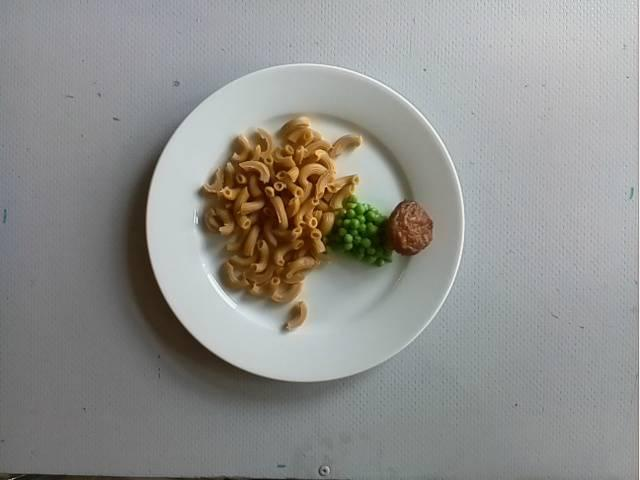Full grain pasta + peas + meatball: (210, 117, 438, 305)
